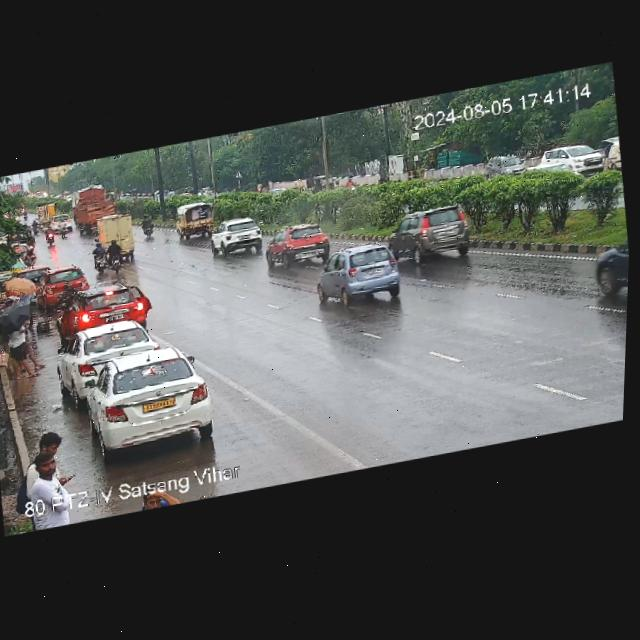car: (80, 340, 219, 458), (55, 315, 157, 392), (316, 235, 414, 313), (60, 278, 154, 339), (389, 198, 473, 265), (524, 138, 610, 187), (260, 220, 332, 270), (582, 237, 630, 308), (31, 260, 88, 308), (206, 214, 267, 258), (14, 259, 53, 282), (46, 214, 58, 228)
motorcycle: (90, 236, 128, 276), (135, 212, 158, 242), (41, 225, 58, 249), (61, 279, 77, 299), (57, 215, 70, 236), (28, 215, 40, 234), (343, 174, 357, 189)
person: (0, 312, 44, 384), (70, 181, 111, 226), (33, 428, 67, 481), (141, 485, 187, 510)
truck: (90, 209, 138, 257), (173, 198, 219, 241)
